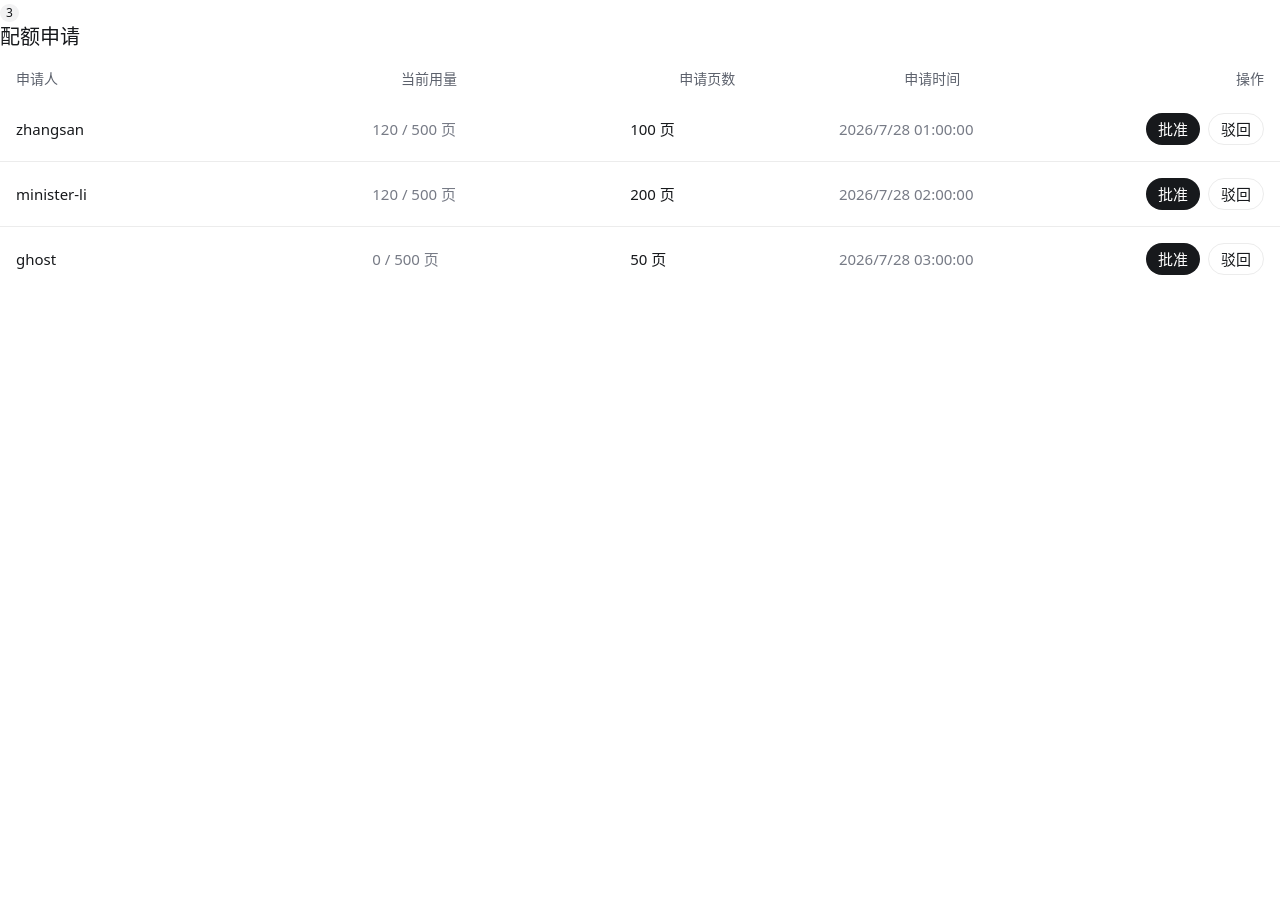
Test: 配额申请（§8.2–8.3，ops） › 批准缺省按申请量：成功淡出 + 成功轻提示 + invalidateSummaries 徽标刷新
Expected: the text "3" is shown, 0,4 -> 19,22
Click the button "批准" in the row of "zhangsan" at point(1173, 129), box 1146,113 -> 1200,145
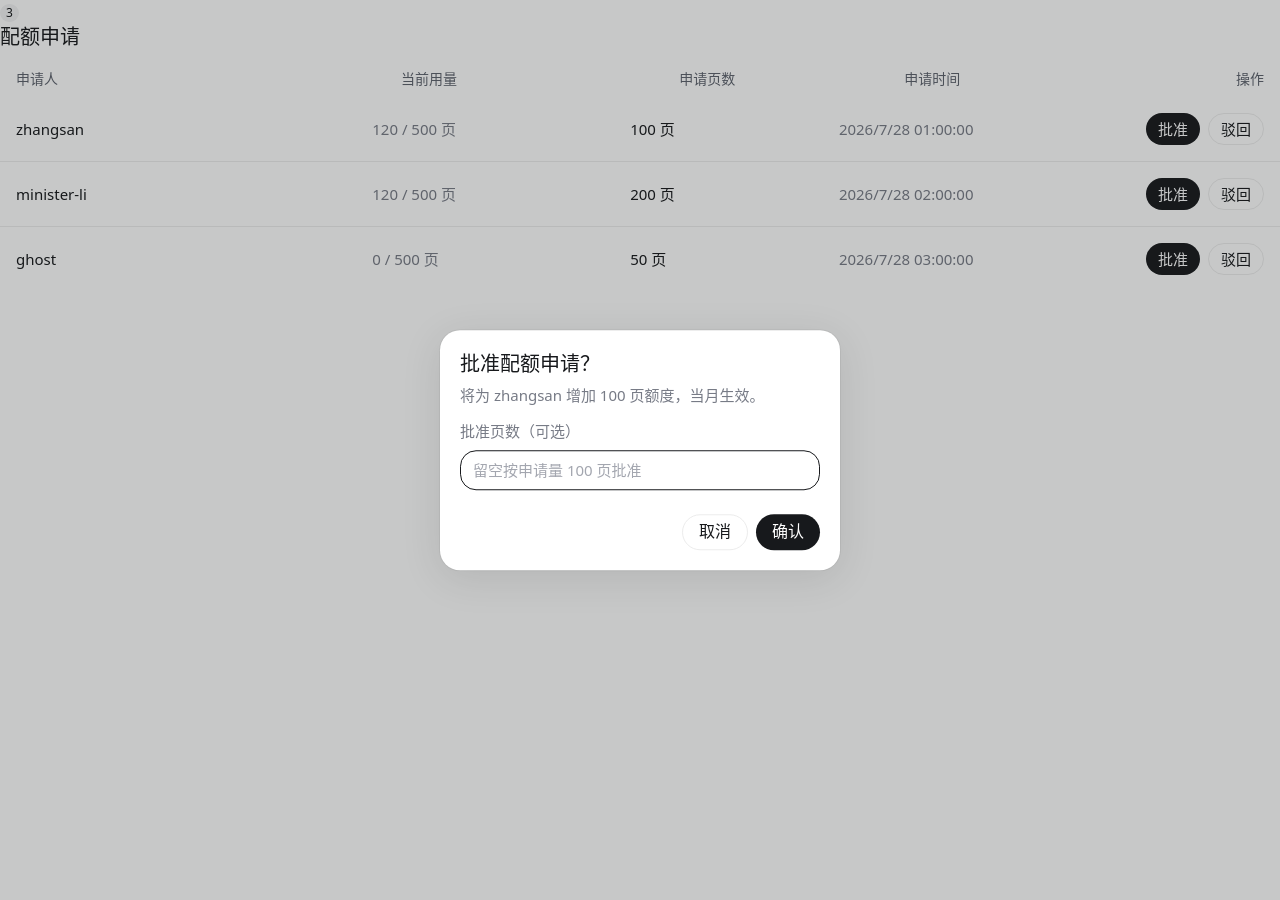
Click the button "确认" at point(788, 532), box 756,514 -> 820,550
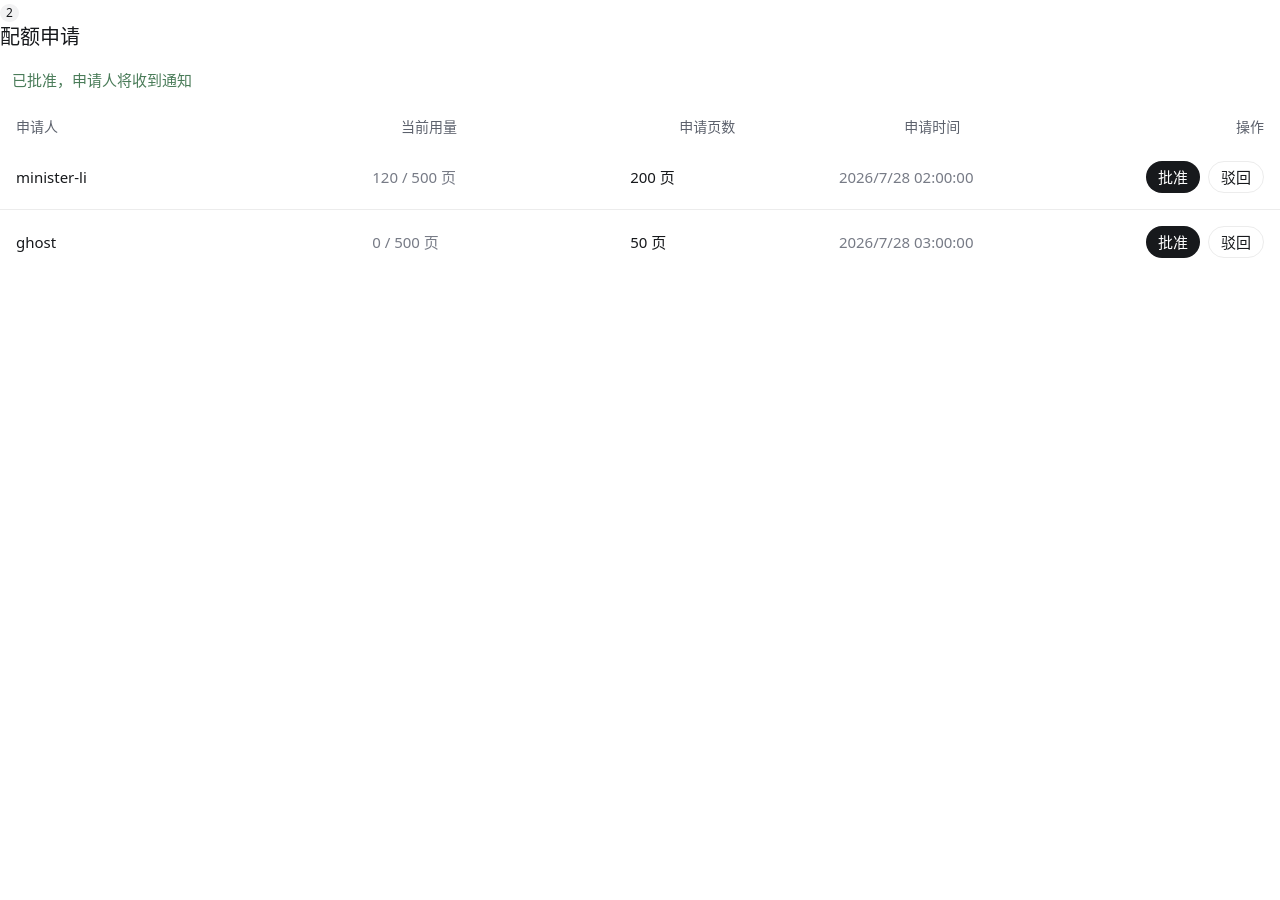
Expected: the text "2" is shown, 0,4 -> 19,22
Now the text "已批准，申请人将收到通知" is shown, box 12,70 -> 192,90
Now the text "zhangsan" is gone
